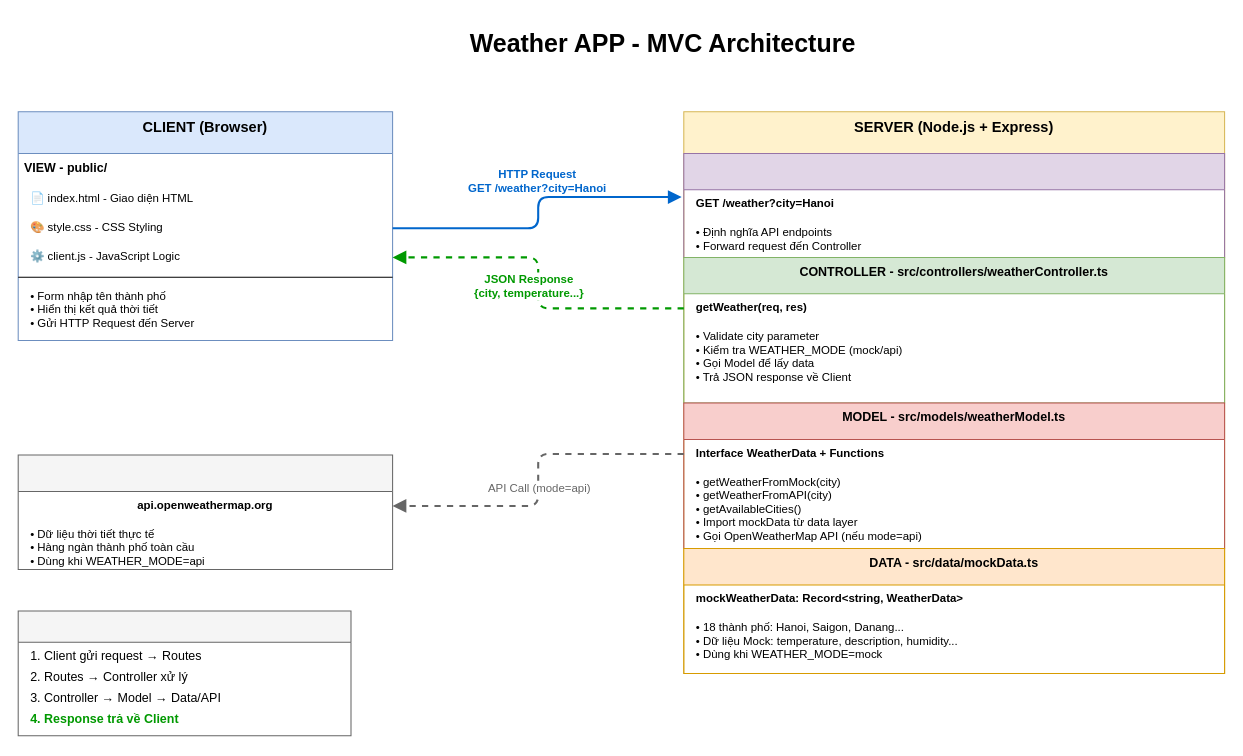
Image size: 1243x756. Some labels were removed from this diagram. Here are the shapes that lost their labels. From the top down, the box of each, then its label:
(683, 152, 1225, 257): ROUTES - src/routes/weatherRoutes.ts
(17, 454, 393, 569): OpenWeatherMap API
(17, 610, 351, 736): LUỒNG DỮ LIỆU
